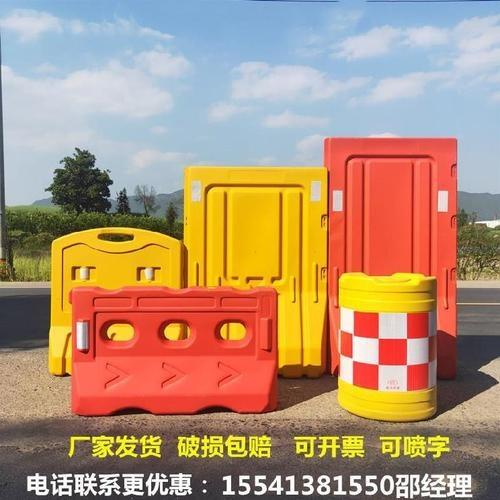cone_barrel: (333, 270, 438, 420)
